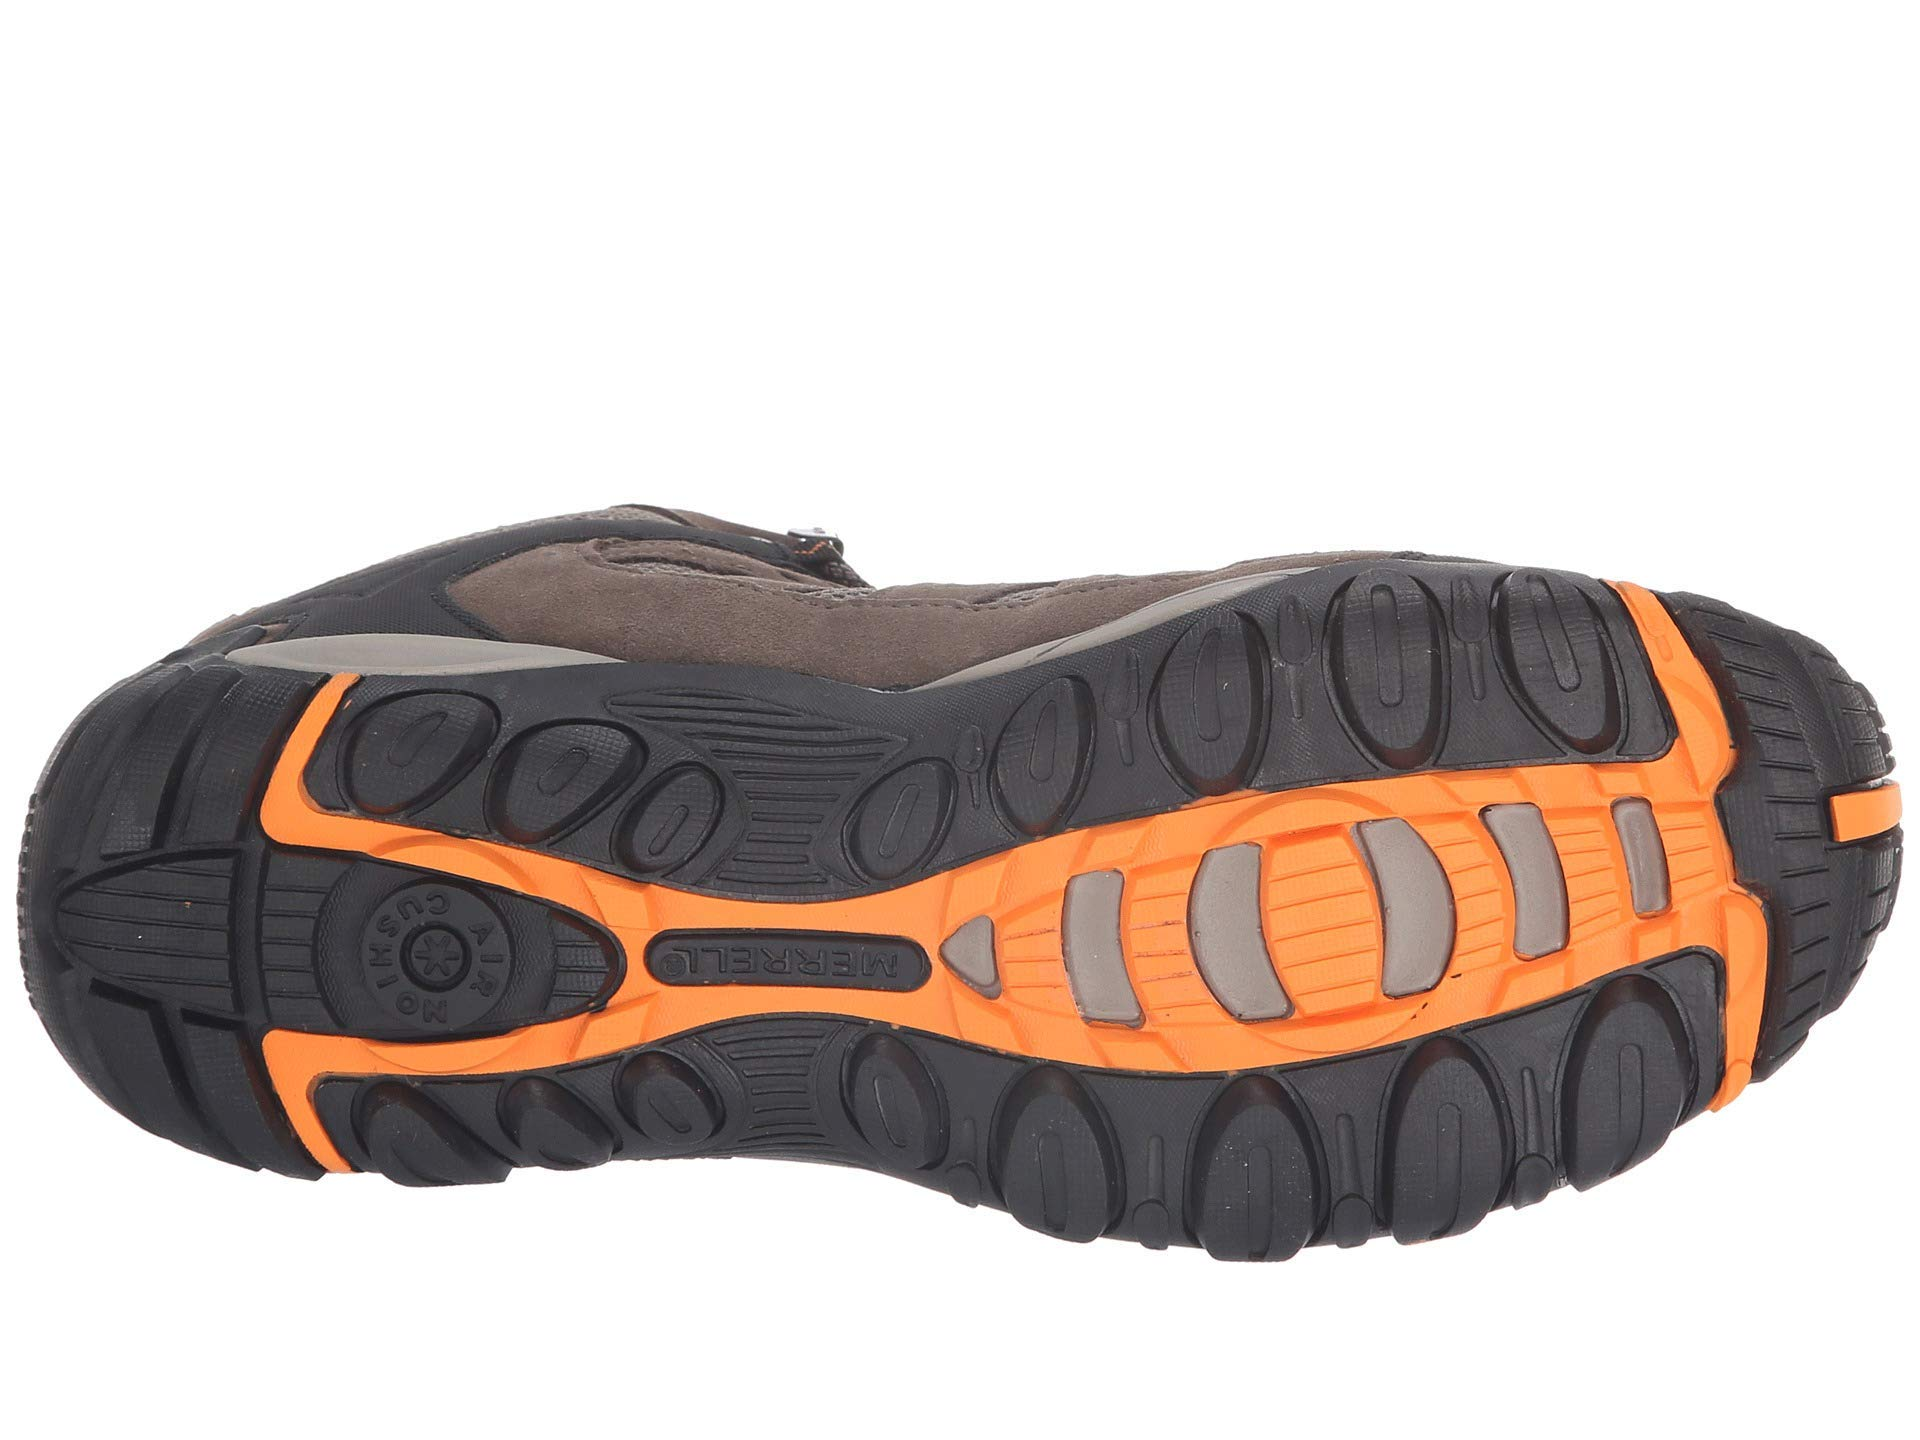circle: (1135, 579, 1580, 1190), (327, 870, 525, 1036)
line: (1135, 579, 1580, 1190), (86, 849, 265, 1196)
quad: (1135, 579, 1580, 1190), (86, 849, 265, 1196)
star: (327, 870, 525, 1036)
text: (327, 870, 525, 1036), (626, 909, 940, 1003)
